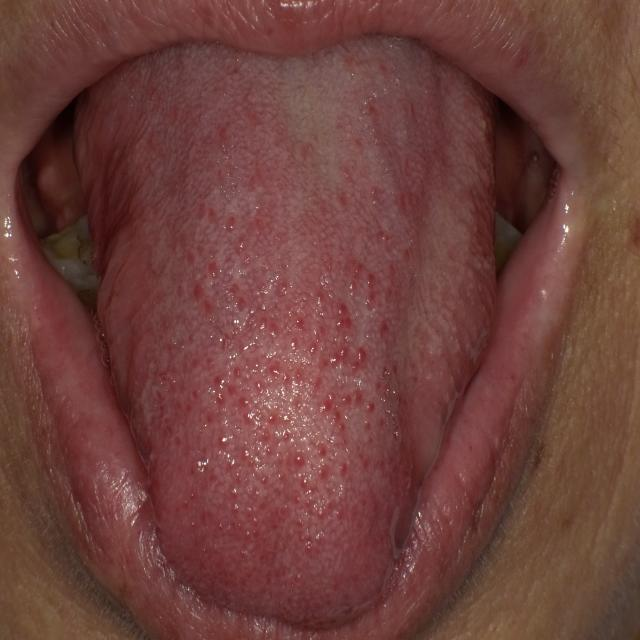baitaishe: (72, 33, 494, 626)
gandanao: (376, 41, 495, 467)
hongdianshe: (190, 280, 205, 305), (355, 344, 368, 367), (205, 259, 219, 279), (212, 373, 227, 391), (292, 452, 307, 470), (314, 441, 328, 460), (319, 397, 333, 415), (265, 411, 277, 427), (363, 400, 375, 415)
